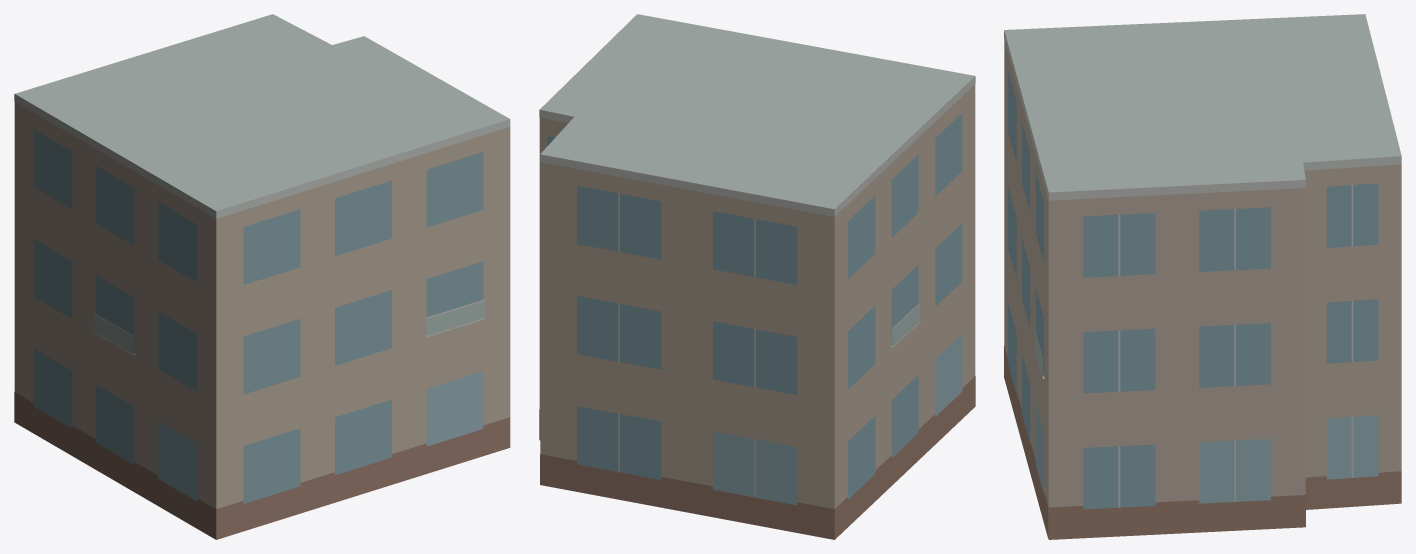
The model's file is survey-upis-32653050.glb.
3 renders of one model, left to right at view 1: azimuth 30°, elevation 25°; view 2: azimuth 150°, elevation 25°; view 3: azimuth 270°, elevation 25°, orthographic. The views are drawn at different scales.
Visible parts, largest first — view 1: survey-upis-32653050.tmp; view 2: survey-upis-32653050.tmp; view 3: survey-upis-32653050.tmp.
Part boxes in pixels (<box>): survey-upis-32653050.tmp: <box>14,14,510,539</box>; survey-upis-32653050.tmp: <box>539,14,975,539</box>; survey-upis-32653050.tmp: <box>1004,14,1401,539</box>.
Bounding box in the file's own units: 11.53 × 10.45 × 10.85.
